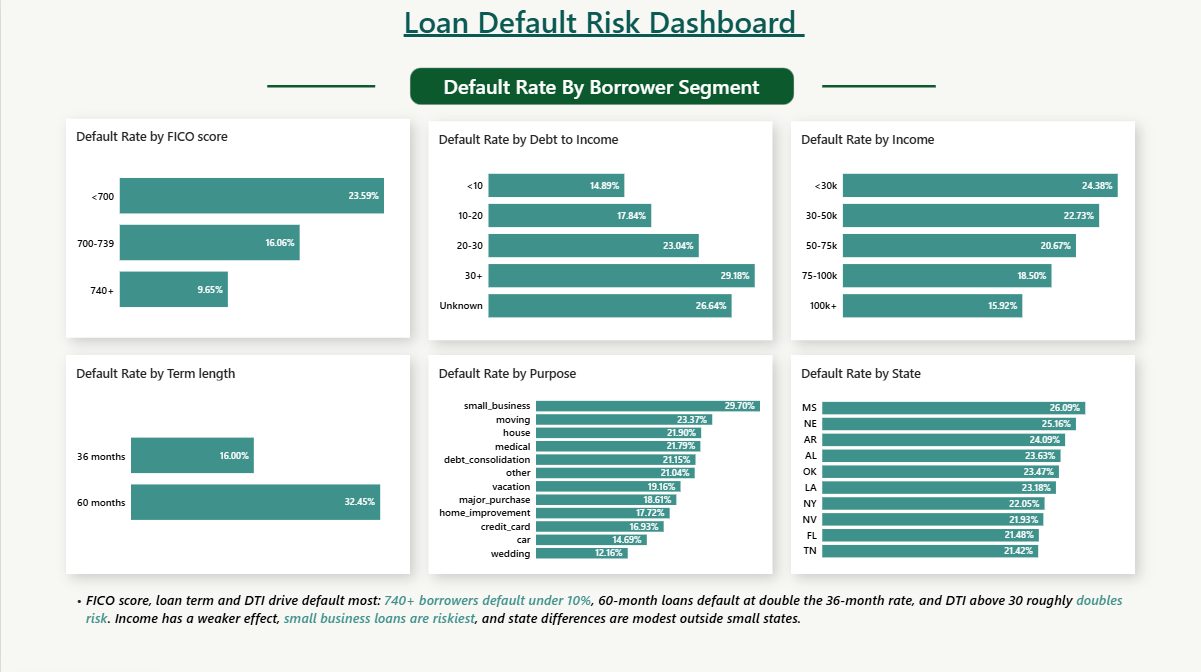

This screenshot's page, from the dashboard's own definition file:
{"tool":"powerbi","page":{"name":"Segment Analysis","canvas":[1920,1080],"ordinal":1},"visuals":[{"type":"textbox","box":[434,0,1062,74],"z":0},{"type":"textbox","box":[104,944,1714,100],"z":1000},{"type":"group","id":"g1","title":"Group 2","box":[425,108,1070,58],"z":2000},{"type":"clusteredBarChart","title":"Default Rate by FICO score","fields":{"Category":["public loan_scored.fico_band"],"Y":["public loan_scored.Default Rate"]},"box":[104,190,550,350],"z":3000},{"type":"clusteredBarChart","title":"Default Rate by Debt to Income","fields":{"Category":["public loan_scored.dti_band"],"Y":["public loan_scored.Default Rate"]},"box":[684,194,550,350],"z":4000},{"type":"shape","box":[652.3,108,615.3,60],"z":5000,"group":"g1"},{"type":"clusteredBarChart","title":"Default Rate by Income","fields":{"Category":["public loan_scored.income_band"],"Y":["public loan_scored.Default Rate"]},"box":[1264,194,550,350],"z":5000},{"type":"textbox","box":[693.2,116.2,533.5,45.5],"z":6000,"group":"g1"},{"type":"clusteredBarChart","title":"Default Rate by Term length","fields":{"Category":["public loan_scored.term"],"Y":["public loan_scored.Default Rate"]},"box":[104,568,550,350],"z":6000},{"type":"shape","box":[425,108,172.8,60],"z":7000,"group":"g1"},{"type":"clusteredBarChart","title":"Default Rate by Purpose","fields":{"Category":["public loan_scored.purpose"],"Y":["public loan_scored.Default Rate"]},"box":[684,568,550,350],"z":7000},{"type":"shape","box":[1313.1,108,181.9,60],"z":8000,"group":"g1"},{"type":"clusteredBarChart","title":"Default Rate by State","fields":{"Category":["public loan_scored.addr_state"],"Y":["public loan_scored.Default Rate"]},"box":[1264,568,550,350],"z":8000}]}

Visuals, with their boxes in screenshot pixels (x1, y1, x2, y2), scaled from the page's 1920x1080 canvas onto the 1201x672 screenshot:
textbox: bbox=(271, 0, 936, 46)
textbox: bbox=(65, 587, 1137, 650)
"Group 2" group: bbox=(266, 67, 935, 103)
"Default Rate by FICO score" clusteredBarChart: bbox=(65, 118, 409, 336)
"Default Rate by Debt to Income" clusteredBarChart: bbox=(428, 121, 772, 338)
shape: bbox=(408, 67, 793, 105)
"Default Rate by Income" clusteredBarChart: bbox=(791, 121, 1135, 338)
textbox: bbox=(434, 72, 767, 101)
"Default Rate by Term length" clusteredBarChart: bbox=(65, 353, 409, 571)
shape: bbox=(266, 67, 374, 105)
"Default Rate by Purpose" clusteredBarChart: bbox=(428, 353, 772, 571)
shape: bbox=(821, 67, 935, 105)
"Default Rate by State" clusteredBarChart: bbox=(791, 353, 1135, 571)
